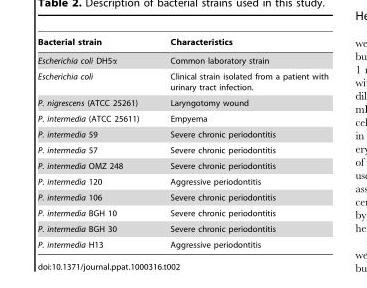table: (37, 37, 327, 248)
table column: (154, 37, 327, 248), (37, 37, 154, 248)
table column header: (37, 37, 327, 51)
table row: (37, 68, 327, 94), (37, 51, 327, 68), (37, 94, 327, 110), (37, 110, 327, 126), (37, 126, 327, 142), (37, 157, 327, 173), (37, 173, 327, 189), (37, 189, 327, 205), (37, 220, 327, 236), (37, 142, 327, 157), (37, 205, 327, 220), (37, 37, 327, 51), (37, 236, 327, 248)
